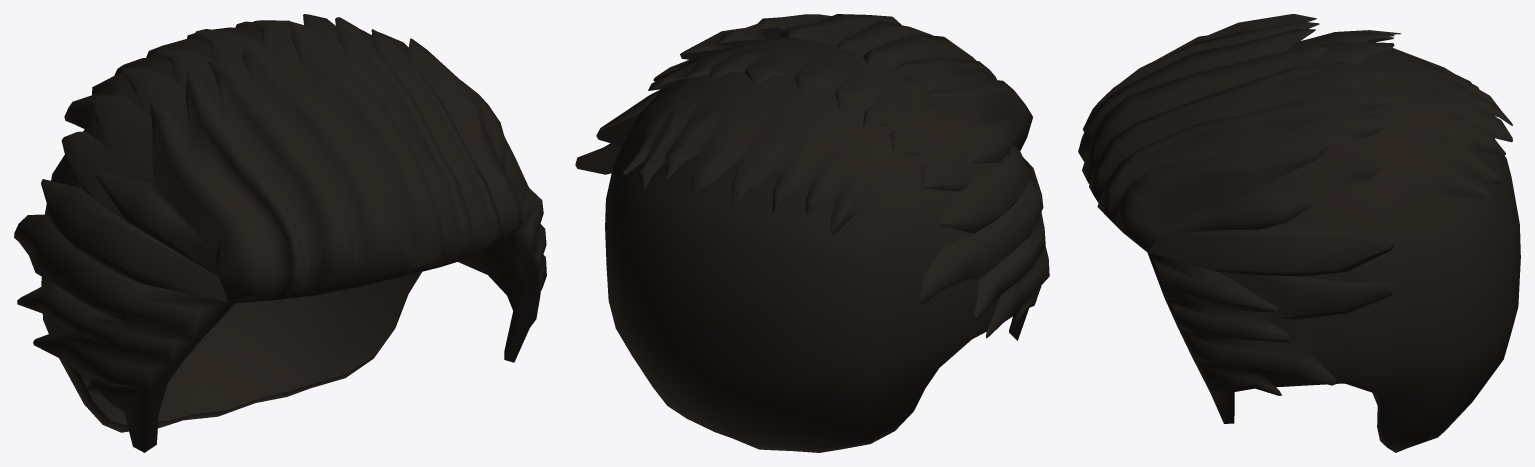
Rendered from Hair_13_01.fbx.
3 renders of one model, left to right at view 1: azimuth 30°, elevation 25°; view 2: azimuth 150°, elevation 25°; view 3: azimuth 270°, elevation 25°, orthographic. The views are drawn at different scales.
Visible parts, largest first — view 1: Hair_13_01; view 2: Hair_13_01; view 3: Hair_13_01.
Boxes of the visible parts, x1,y1,x2,y2 form: Hair_13_01: (14,14,546,452); Hair_13_01: (575,14,1049,452); Hair_13_01: (1078,14,1520,452).
Size of the model in its own units: 41.2 by 37.07 by 38.65.
